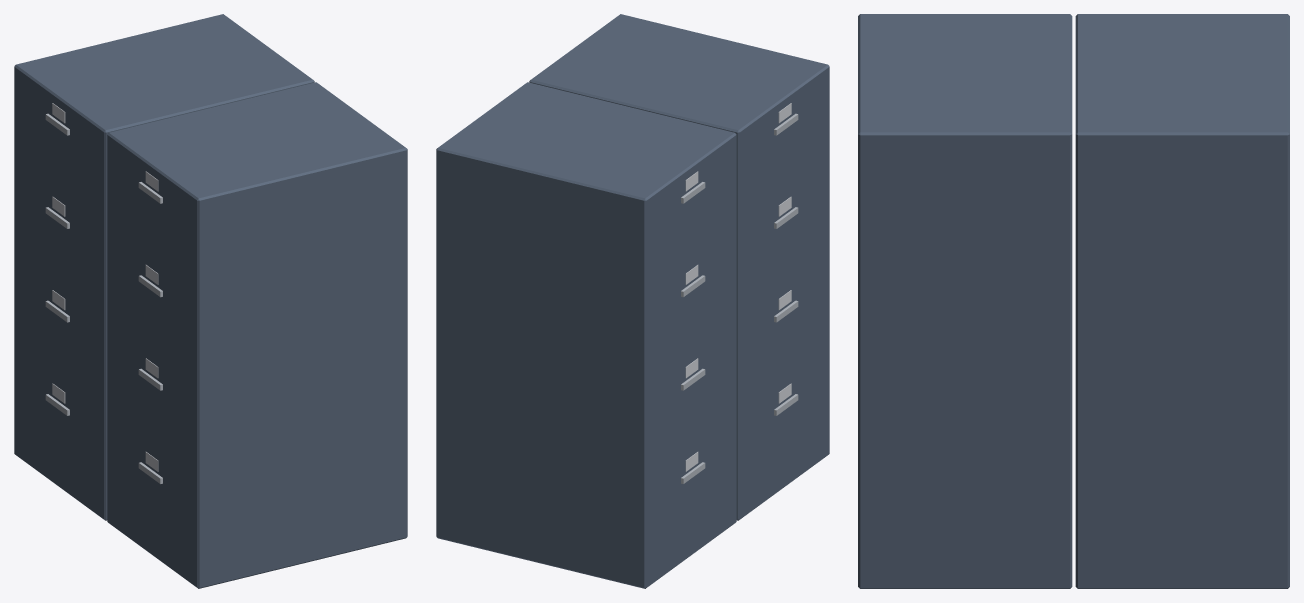
The model's file is filing.glb.
The picture shows the model from 3 angles, left to right: view 1: azimuth 30°, elevation 25°; view 2: azimuth 150°, elevation 25°; view 3: azimuth 270°, elevation 25°; orthographic projection. The views are drawn at different scales.
Visible parts, largest first — view 1: filing; view 2: filing; view 3: filing.
Part boxes in pixels (<box>): filing: <box>14,14,407,588</box>; filing: <box>436,14,829,588</box>; filing: <box>858,14,1289,588</box>.
Size of the model in its own units: 0.8 by 1.4 by 1.2.
